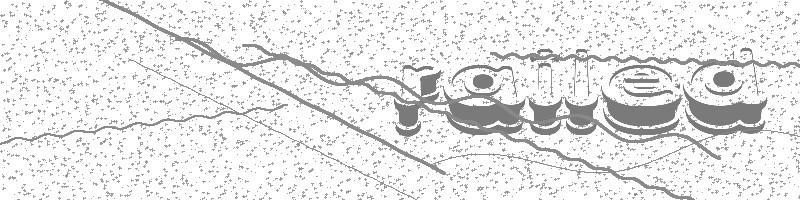a: (441, 61, 531, 140)
d: (681, 43, 771, 146)
e: (598, 60, 688, 138)
i: (564, 38, 601, 138), (529, 46, 561, 153)
r: (392, 61, 440, 139)
